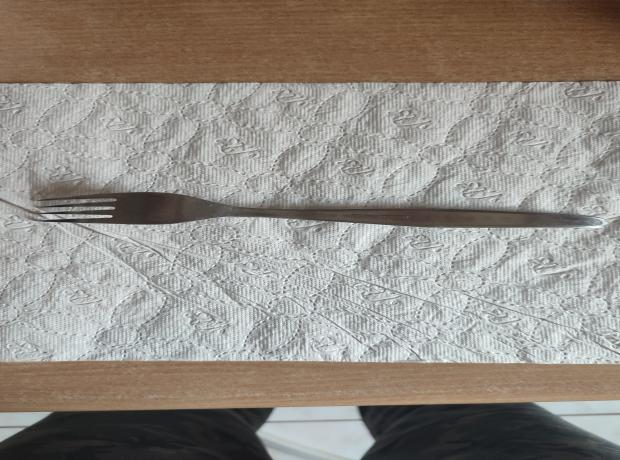metal: (29, 192, 608, 228)
